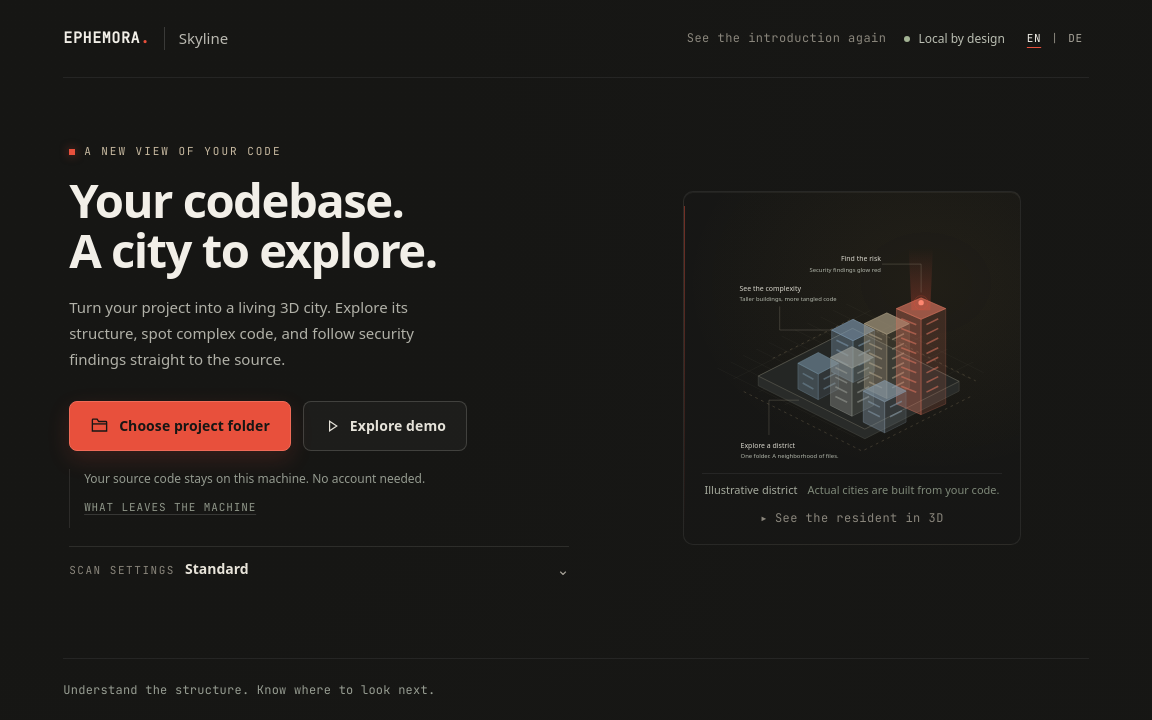
Test: the introduction can be asked for again (§03.11) › opens the greeting, still one decision
Click the button with class "start-replay" at (787, 38), box [685, 24, 888, 52]
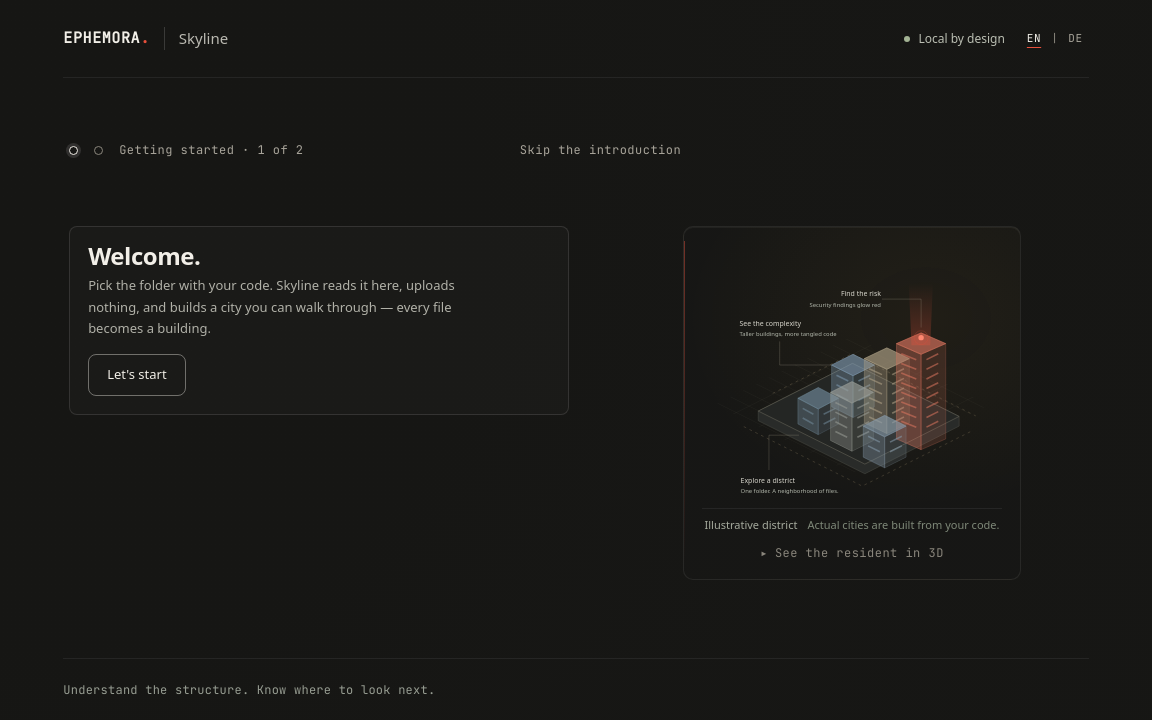
Expected: the element with class "landing-welcome" is shown, [69, 226, 569, 415]
Expected: the navigation bar with class "start-progress-steps" is shown, [69, 135, 689, 165]
Expected: the button with class "start-replay" is gone
